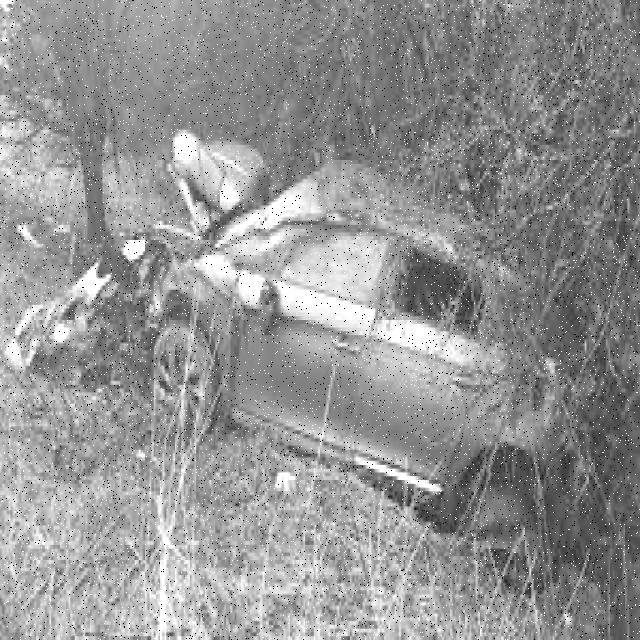car damage: (8, 136, 276, 417)
